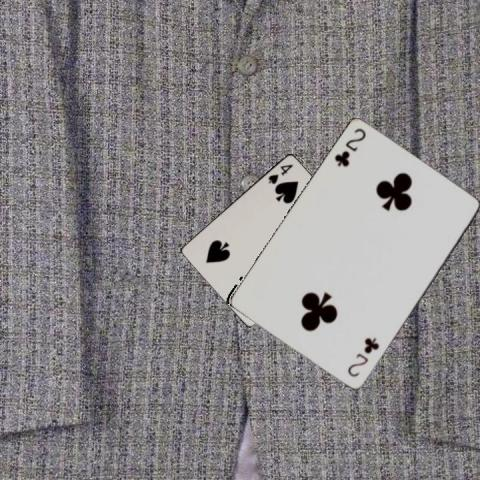2c: (345, 335, 381, 379), (332, 125, 368, 169)
4s: (265, 162, 295, 186)
